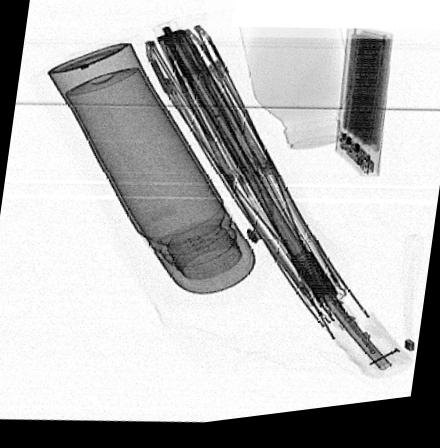Powerbank: (331, 35, 394, 185)
